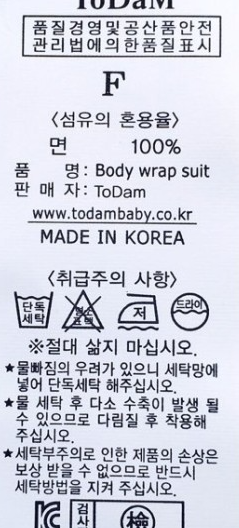KR_dry_clean: (169, 288, 213, 334)
KR_no_chlorine_bleach: (58, 289, 108, 334)
